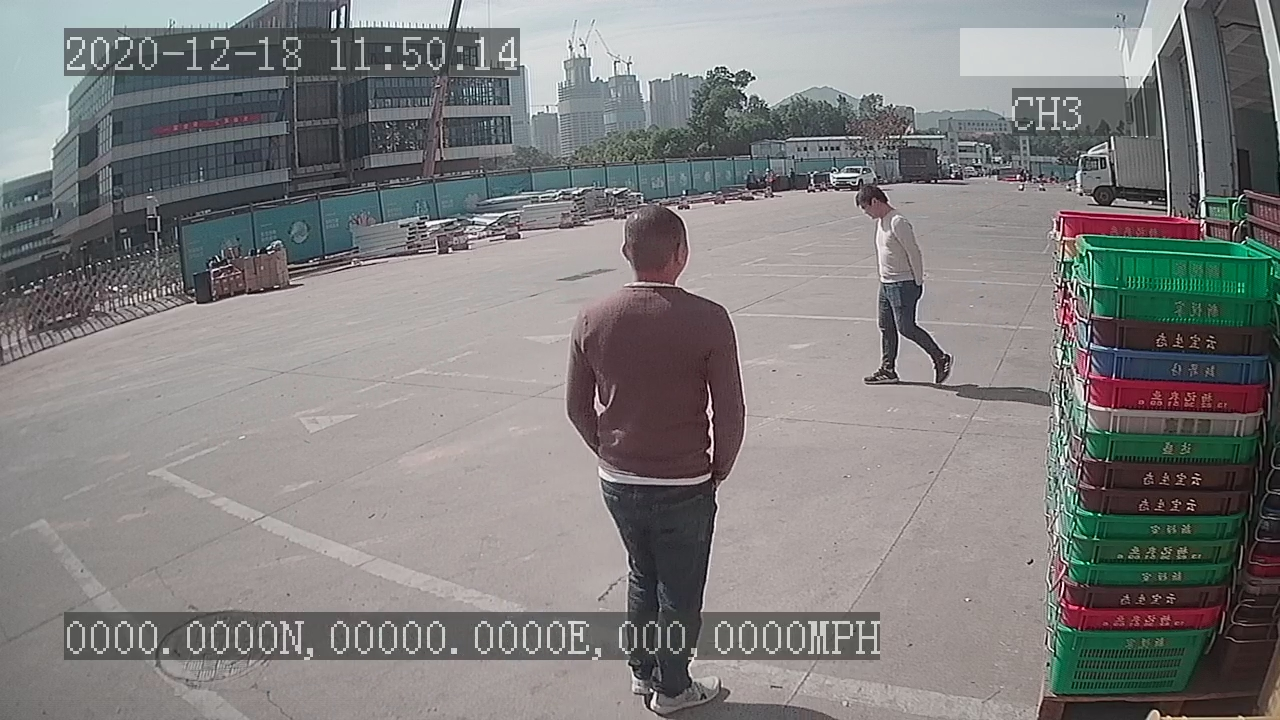person: (847, 181, 959, 390)
